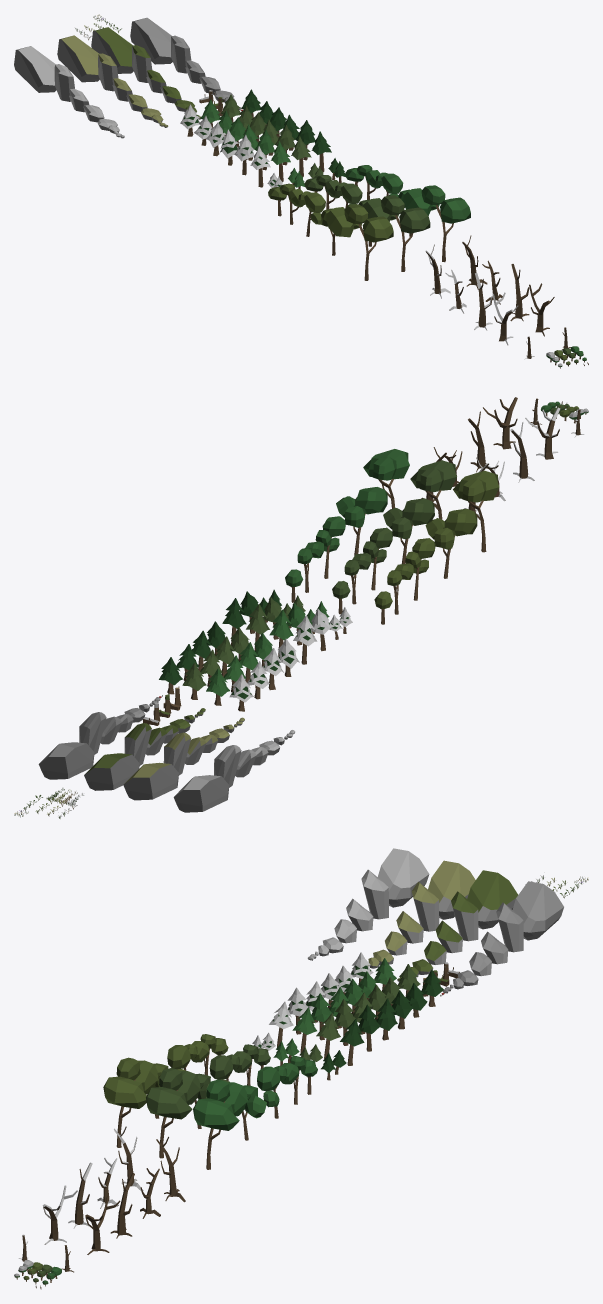
Rendered from EmbersStorm-Forest Pack.glb.
The picture shows the model from 3 angles, top to bottom: view 1: azimuth 30°, elevation 25°; view 2: azimuth 150°, elevation 25°; view 3: azimuth 330°, elevation 25°; orthographic projection. The views are drawn at different scales.
Visible parts, largest first — view 1: Rock.116, Rock.107, Rock.083, oak.046, oak.041, oak.036, Rock.092, oak.045, oak.044, Rock.115, Rock.106, Rock.082 (+4 smaller); view 2: Rock.083, Rock.107, Rock.116, Rock.092, oak.045, oak.035, oak.040, oak.046, oak.041, oak.036, oak.034, oak.039 (+10 smaller); view 3: Rock.083, Rock.116, Rock.092, oak.036, oak.041, oak.046, Rock.107, oak.035, Rock.091, Rock.082, Rock.115, Rock.106 (+9 smaller).
Part boxes in pixels (<box>): Rock.116: <box>14,46,56,92</box>; Rock.107: <box>57,35,99,82</box>; Rock.083: <box>130,17,172,64</box>; oak.046: <box>344,204,393,280</box>; oak.041: <box>381,195,430,271</box>; oak.036: <box>421,185,470,262</box>; Rock.092: <box>91,27,133,73</box>; oak.045: <box>321,207,362,255</box>; oak.044: <box>298,191,325,236</box>; Rock.115: <box>54,64,74,101</box>; Rock.106: <box>98,53,118,91</box>; Rock.082: <box>171,35,191,73</box>; Rock.083: <box>38,742,94,779</box>; Rock.107: <box>123,762,178,800</box>; Rock.116: <box>173,775,229,812</box>; Rock.092: <box>84,753,139,790</box>; oak.045: <box>425,508,477,578</box>; oak.035: <box>336,487,387,555</box>; oak.040: <box>383,498,434,563</box>; oak.046: <box>453,470,499,552</box>; oak.041: <box>410,460,456,519</box>; oak.036: <box>363,449,409,529</box>; oak.034: <box>315,516,345,578</box>; oak.039: <box>363,527,393,590</box>; Rock.083: <box>512,881,563,940</box>; Rock.116: <box>378,848,429,907</box>; Rock.092: <box>467,870,517,929</box>; oak.036: <box>193,1079,239,1169</box>; oak.041: <box>146,1068,192,1158</box>; oak.046: <box>103,1057,146,1147</box>; Rock.107: <box>428,860,475,919</box>; oak.035: <box>225,1082,266,1140</box>; Rock.091: <box>451,891,478,941</box>; Rock.082: <box>496,902,523,952</box>; Rock.115: <box>361,869,388,919</box>; Rock.106: <box>411,882,439,931</box>.
Bounding box in the file's own units: 118 × 50.65 × 615.
1 material, 1 textured.
